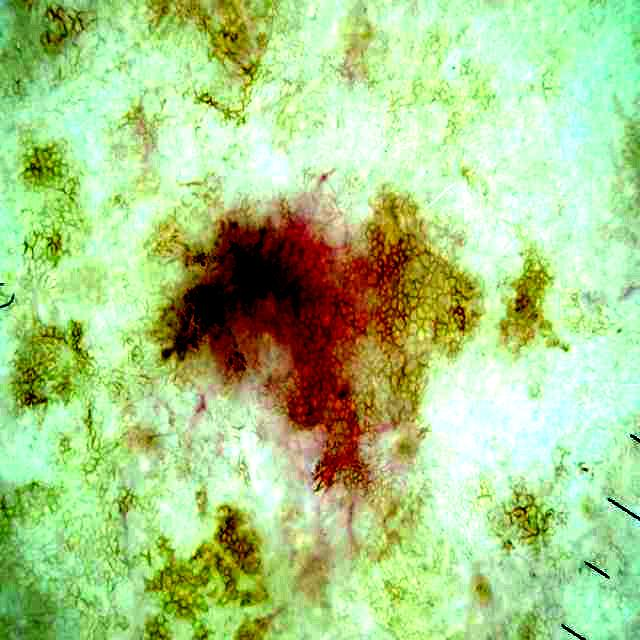BCC: (164, 191, 481, 490)
